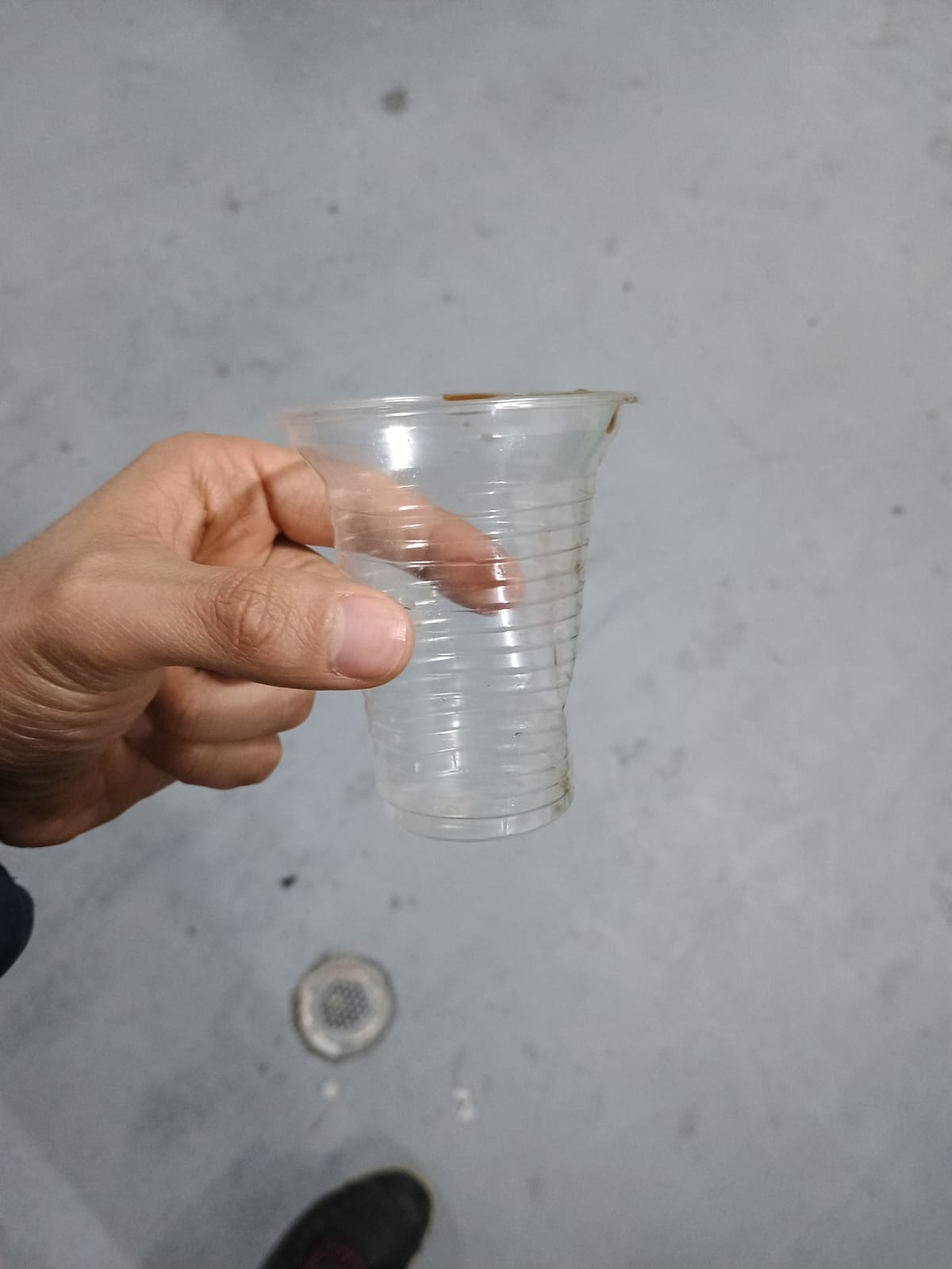Plastico: (273, 391, 644, 846)
